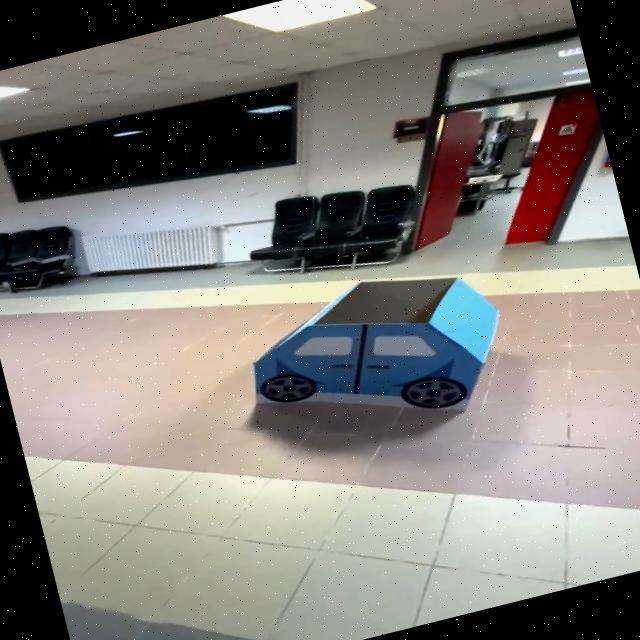blue_car: (211, 235, 555, 469)
